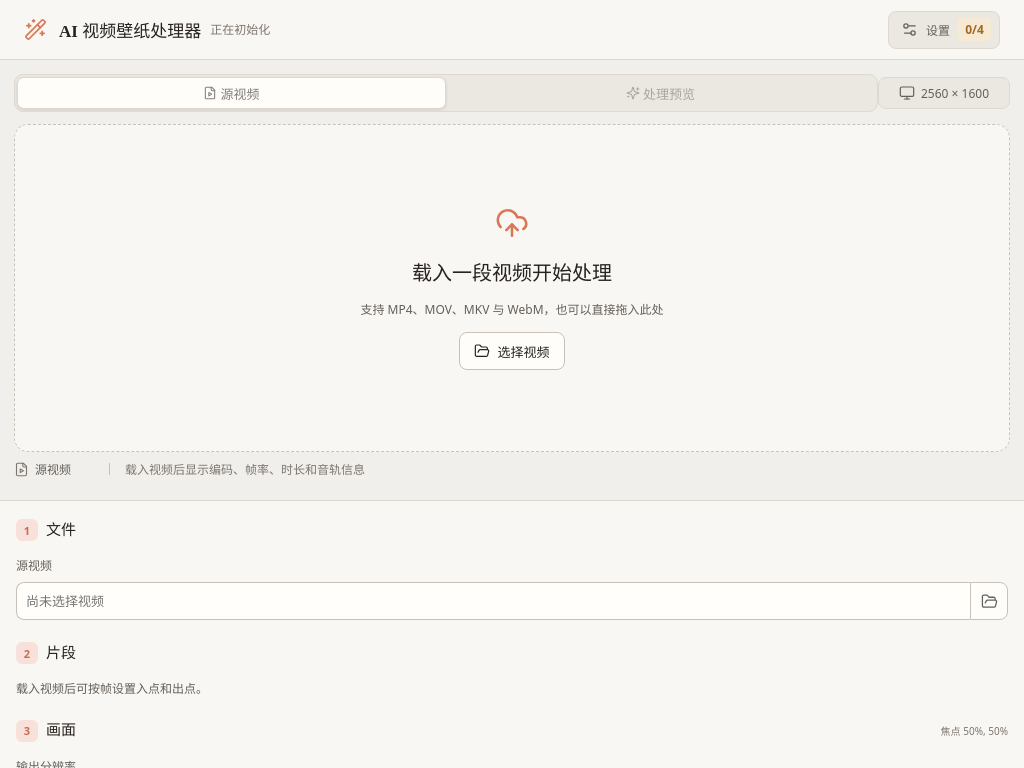
Test: desktop processing controls › does not submit a process when the final path recheck fails
This screenshot has width=1024, height=768.
Step 1. Click the button named "选择源视频" → (989, 601), box [970,582,1008,620]
(page scrolled)
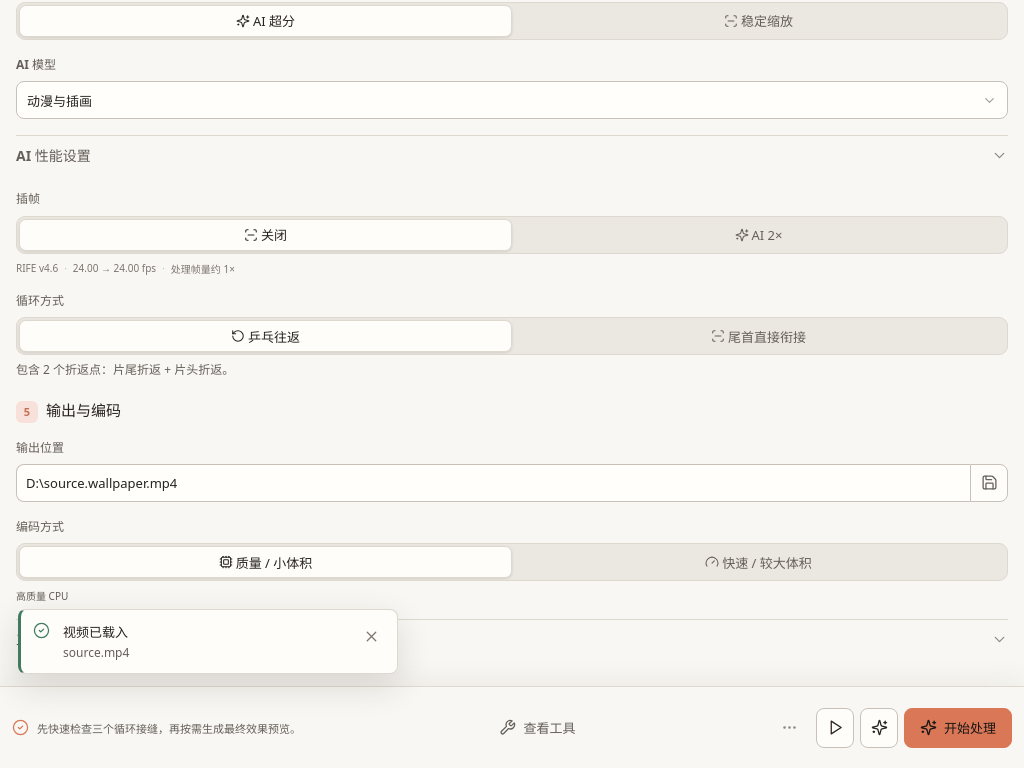
Step 2. Click the button "开始处理" → (958, 728), box [904,708,1012,748]
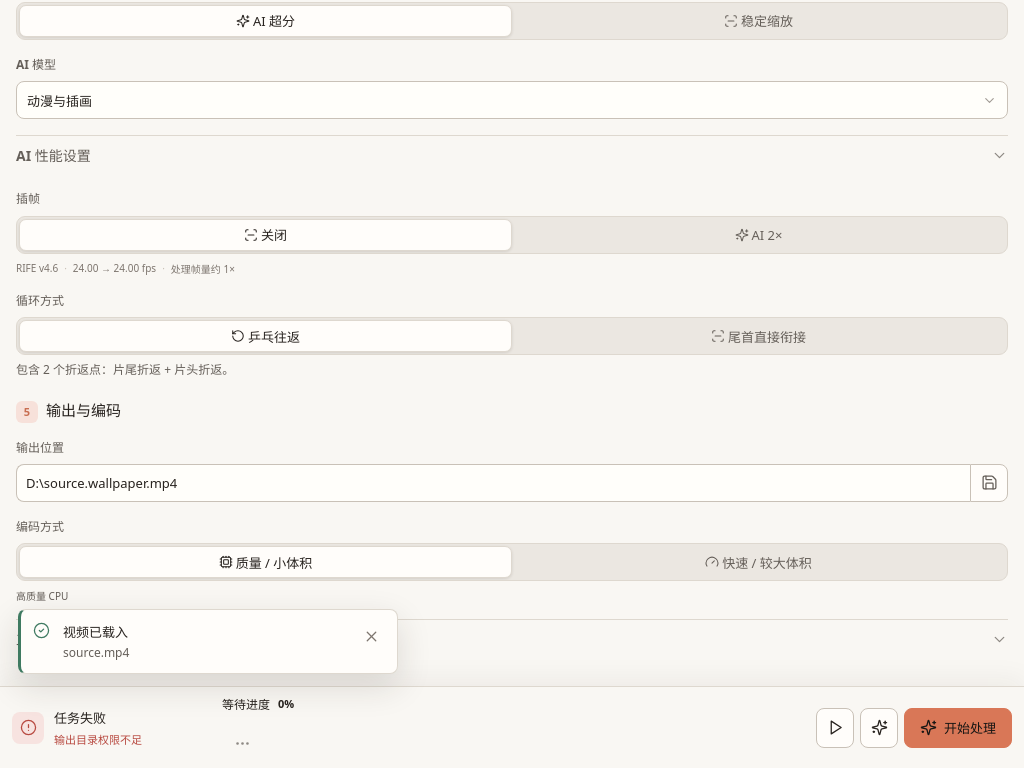
Expected: the text "输出目录权限不足" is shown, [54,732,142,747]
